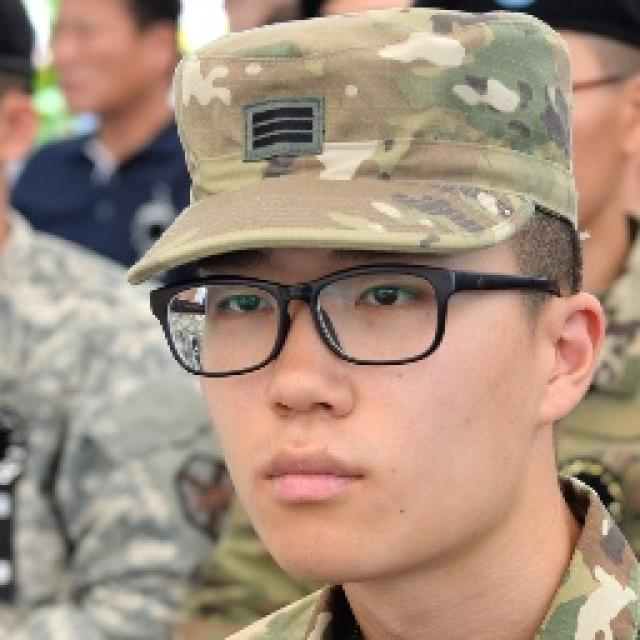earlobe: (535, 387, 582, 428)
eye: (355, 284, 423, 314), (218, 290, 274, 321)
nose: (268, 403, 345, 434)
wholeear: (540, 288, 605, 428)
